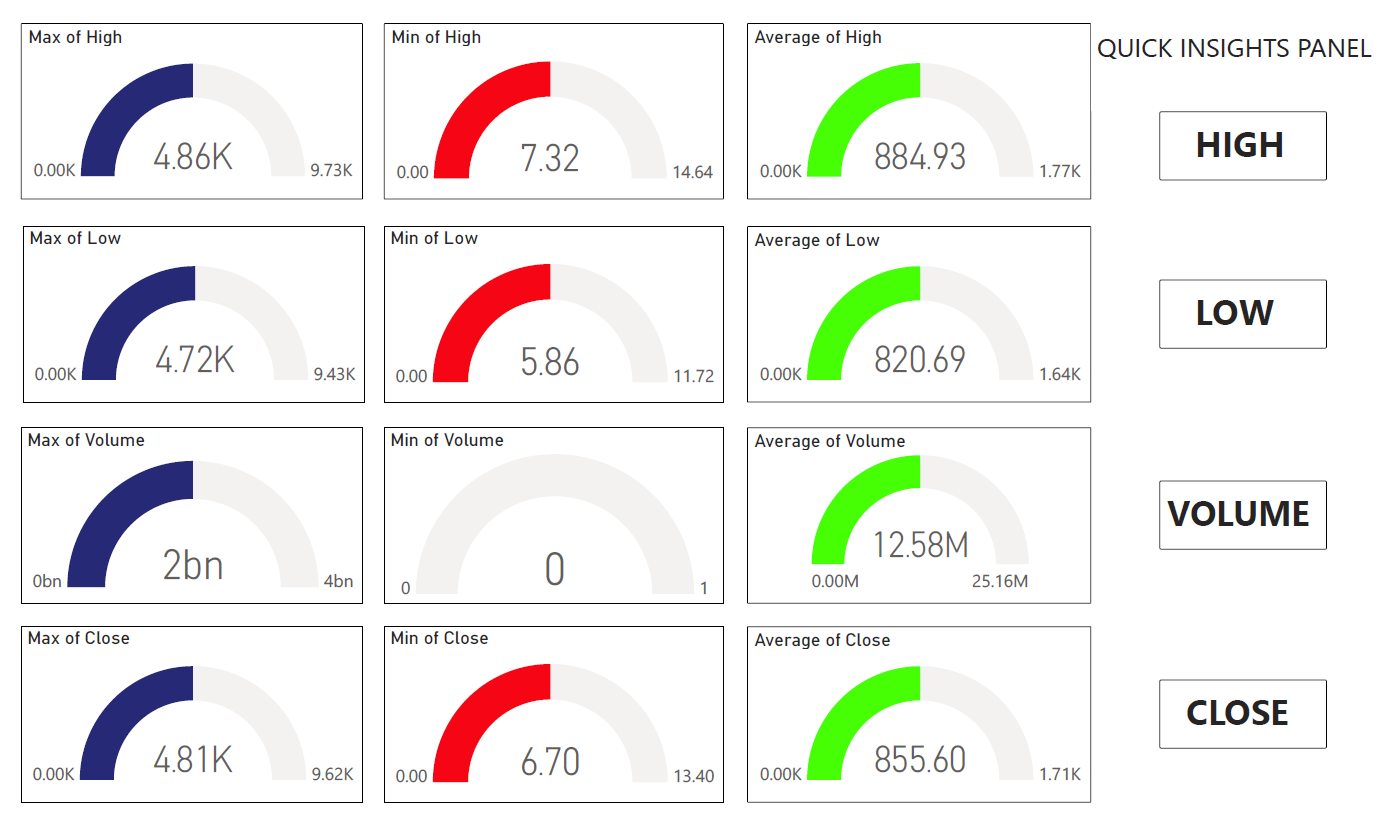

The page's visual inventory and layout, read from the dashboard file:
{"tool":"powerbi","page":{"name":"Page 3","canvas":[1280,720],"ordinal":2},"visuals":[{"type":"gauge","fields":{"Y":["Max(Ethereum Historical Data.High)"]},"box":[26.5,0,316.2,162.8],"z":0},{"type":"gauge","fields":{"Y":["Min(Ethereum Historical Data.High)"]},"box":[361.7,0,314.3,162.8],"z":1000},{"type":"gauge","fields":{"Y":["Avg(Ethereum Historical Data.High)"]},"box":[696.8,0,318.1,162.8],"z":2000},{"type":"gauge","fields":{"Y":["Max(Ethereum Historical Data.Low)"]},"box":[28.4,187.5,316.2,162.8],"z":3000},{"type":"gauge","fields":{"Y":["Max(Ethereum Historical Data.Volume)"]},"box":[26.5,373,316.2,162.8],"z":4000},{"type":"gauge","fields":{"Y":["Max(Ethereum Historical Data.Close)"]},"box":[26.5,556.7,316.2,162.8],"z":5000},{"type":"gauge","fields":{"Y":["Min(Ethereum Historical Data.Low)"]},"box":[361.7,187.5,314.3,162.8],"z":6000},{"type":"gauge","fields":{"Y":["Min(Ethereum Historical Data.Volume)"]},"box":[361.7,373,314.3,162.8],"z":7000},{"type":"gauge","fields":{"Y":["Min(Ethereum Historical Data.Close)"]},"box":[361.7,556.7,314.3,162.8],"z":8000},{"type":"gauge","fields":{"Y":["Avg(Ethereum Historical Data.Low)"]},"box":[696.8,187.5,318.1,162.8],"z":9000},{"type":"gauge","fields":{"Y":["Avg(Ethereum Historical Data.Volume)"]},"box":[696.8,373,318.1,162.8],"z":10000},{"type":"gauge","fields":{"Y":["Avg(Ethereum Historical Data.Close)"]},"box":[696.8,556.7,318.1,162.8],"z":11000},{"type":"textbox","box":[1014.9,0,265.1,81.4],"z":12000},{"type":"textbox","box":[1077.4,81.4,155.3,64.4],"z":13000},{"type":"textbox","box":[1077.4,236.7,155.3,64.4],"z":14000},{"type":"textbox","box":[1077.4,422.2,155.3,64.4],"z":15000},{"type":"textbox","box":[1077.4,605.9,155.3,64.4],"z":16000}]}

Visuals, with their boxes in screenshot pixels (x1, y1, x2, y2):
gauge - Max(Ethereum Historical Data.High): <bbox>25, 22, 363, 196</bbox>
gauge - Min(Ethereum Historical Data.High): <bbox>384, 22, 720, 196</bbox>
gauge - Avg(Ethereum Historical Data.High): <bbox>743, 22, 1083, 196</bbox>
gauge - Max(Ethereum Historical Data.Low): <bbox>27, 223, 365, 397</bbox>
gauge - Max(Ethereum Historical Data.Volume): <bbox>25, 421, 363, 596</bbox>
gauge - Max(Ethereum Historical Data.Close): <bbox>25, 618, 363, 792</bbox>
gauge - Min(Ethereum Historical Data.Low): <bbox>384, 223, 720, 397</bbox>
gauge - Min(Ethereum Historical Data.Volume): <bbox>384, 421, 720, 596</bbox>
gauge - Min(Ethereum Historical Data.Close): <bbox>384, 618, 720, 792</bbox>
gauge - Avg(Ethereum Historical Data.Low): <bbox>743, 223, 1083, 397</bbox>
gauge - Avg(Ethereum Historical Data.Volume): <bbox>743, 421, 1083, 596</bbox>
gauge - Avg(Ethereum Historical Data.Close): <bbox>743, 618, 1083, 792</bbox>
textbox: <bbox>1083, 22, 1367, 109</bbox>
textbox: <bbox>1150, 109, 1317, 178</bbox>
textbox: <bbox>1150, 275, 1317, 344</bbox>
textbox: <bbox>1150, 474, 1317, 543</bbox>
textbox: <bbox>1150, 671, 1317, 740</bbox>
